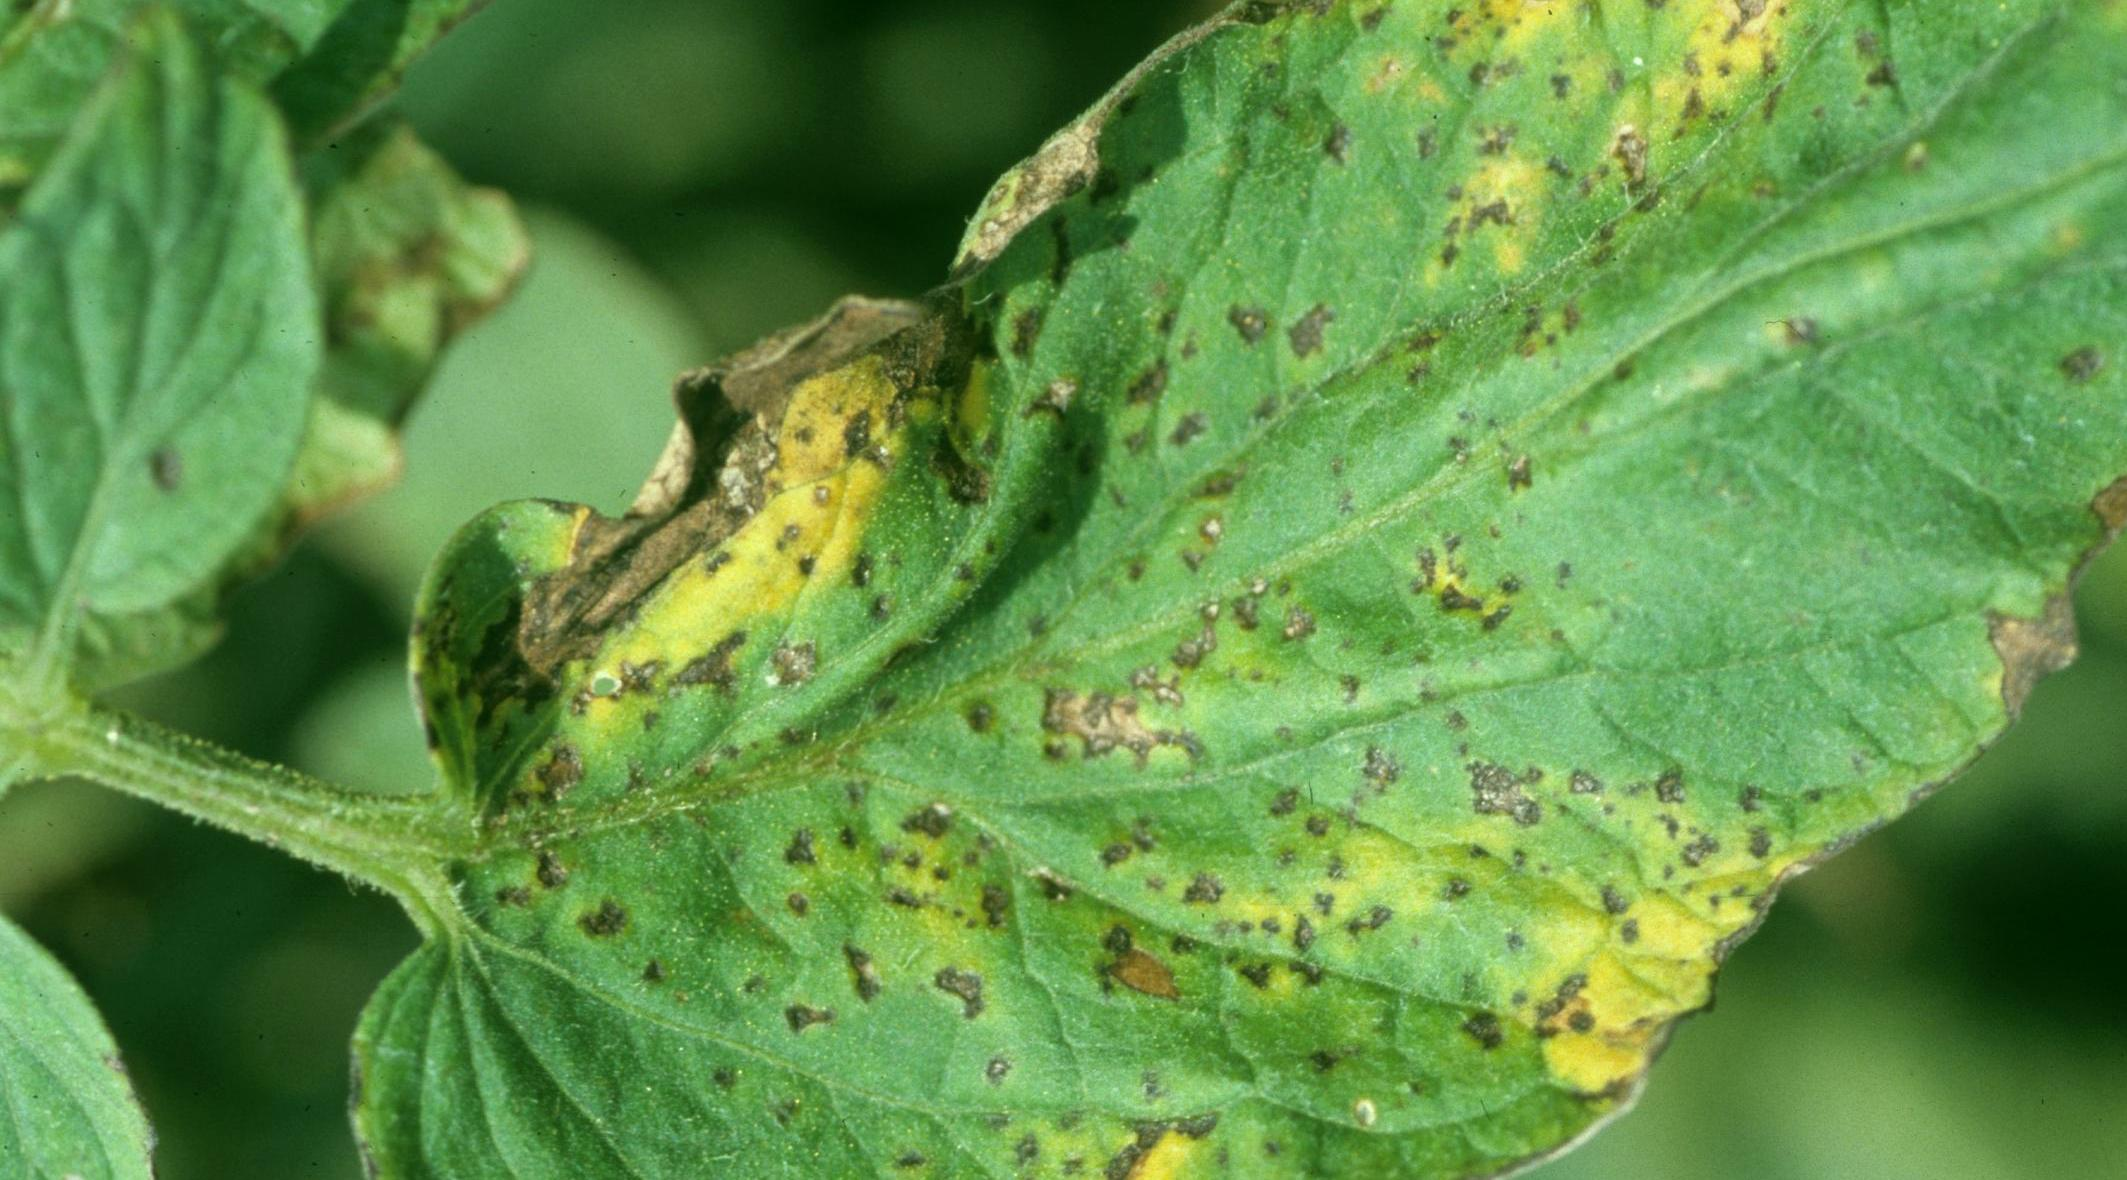Tomato leaf bacterial spot: (184, 0, 2127, 1180)
